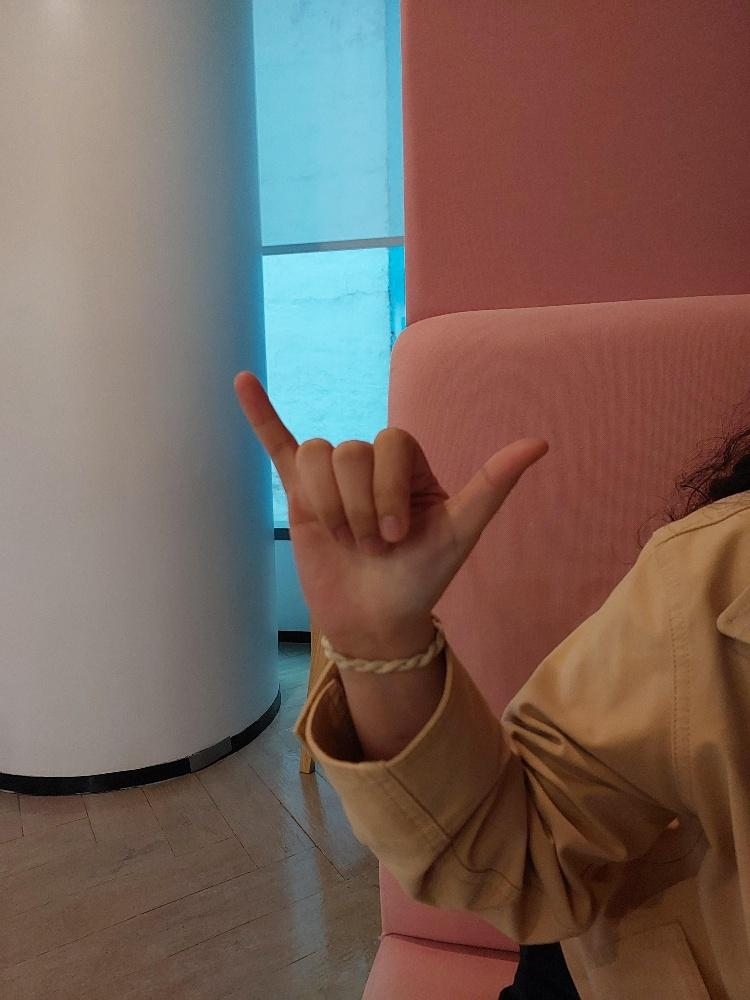y: (230, 360, 558, 677)
